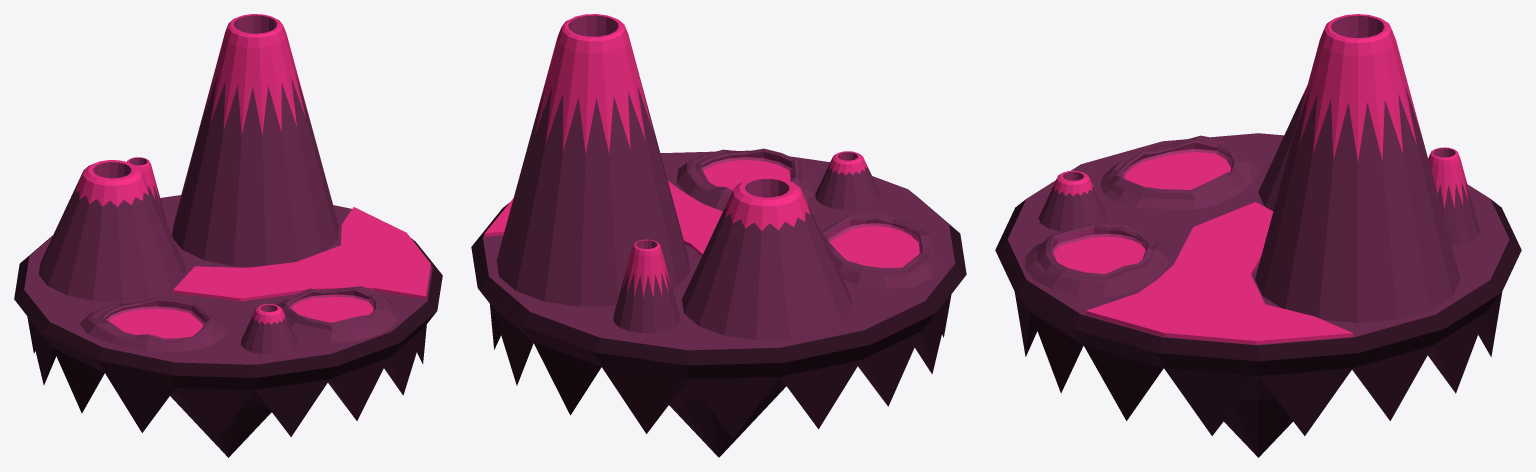
The model's file is MHUBplatform.fbx.
The picture shows the model from 3 angles, left to right: view 1: azimuth 30°, elevation 25°; view 2: azimuth 150°, elevation 25°; view 3: azimuth 270°, elevation 25°; orthographic projection. The views are drawn at different scales.
Visible parts, largest first — view 1: Circle, Volcano2, Volcano, Cube, Circle.002, Circle.001, Volcano.001, Volcano2.001; view 2: Circle, Volcano2, Volcano, Circle.002, Circle.001, Volcano2.001, Volcano.001, Cube; view 3: Circle, Volcano2, Cube, Circle.002, Circle.001, Volcano2.001, Volcano.001, Volcano.
Part boxes in pixels (box(x1,y1,x2,y2)): Circle: box(14, 195, 442, 457); Volcano2: box(172, 14, 339, 266); Volcano: box(38, 160, 186, 301); Cube: box(173, 207, 430, 301); Circle.002: box(79, 298, 225, 351); Circle.001: box(276, 286, 397, 342); Volcano.001: box(240, 303, 297, 354); Volcano2.001: box(127, 157, 167, 224); Circle: box(471, 150, 966, 457); Volcano2: box(496, 14, 690, 306); Volcano: box(682, 176, 852, 340); Circle.002: box(821, 214, 940, 288); Circle.001: box(676, 148, 813, 210); Volcano2.001: box(613, 239, 680, 332); Volcano.001: box(815, 151, 880, 209); Cube: box(484, 180, 722, 256); Circle: box(995, 133, 1521, 457); Volcano2: box(1255, 14, 1460, 322); Cube: box(1085, 202, 1353, 344); Circle.002: box(1100, 135, 1259, 209); Circle.001: box(1025, 223, 1171, 297); Volcano2.001: box(1428, 147, 1479, 245); Volcano.001: box(1038, 170, 1107, 231); Volcano: box(1258, 85, 1307, 210).
Size of the model in its own units: 1523 by 1504 by 1523.
